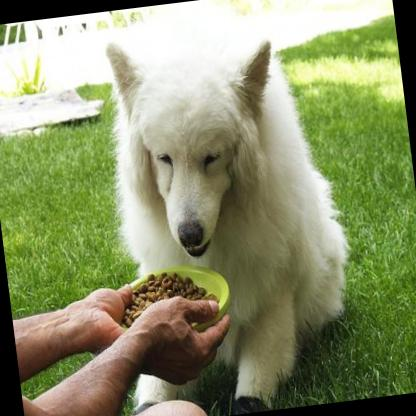Samoyed: (88, 8, 364, 416)
